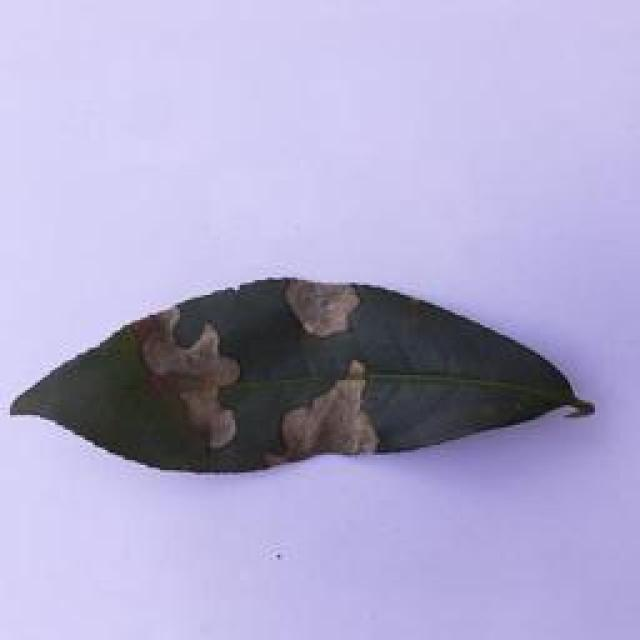Gray Blight: (6, 276, 604, 474)
